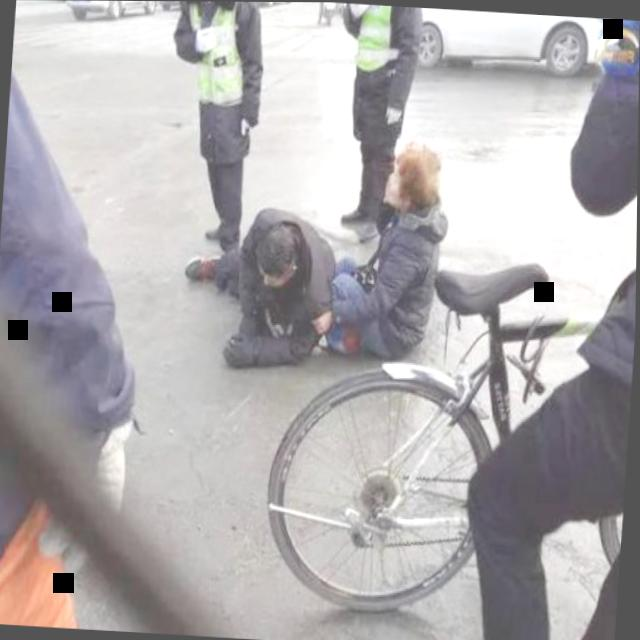Fall-Detected: (177, 184, 351, 379)
